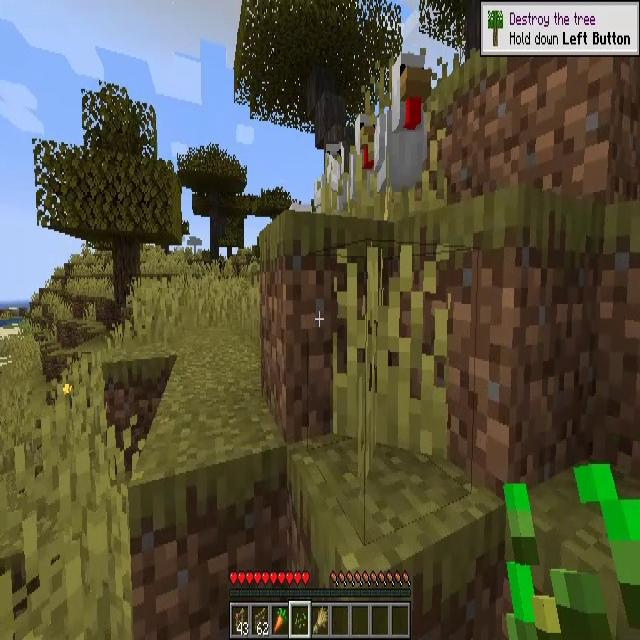duck: (380, 57, 428, 222), (349, 112, 386, 214), (325, 141, 349, 214)
